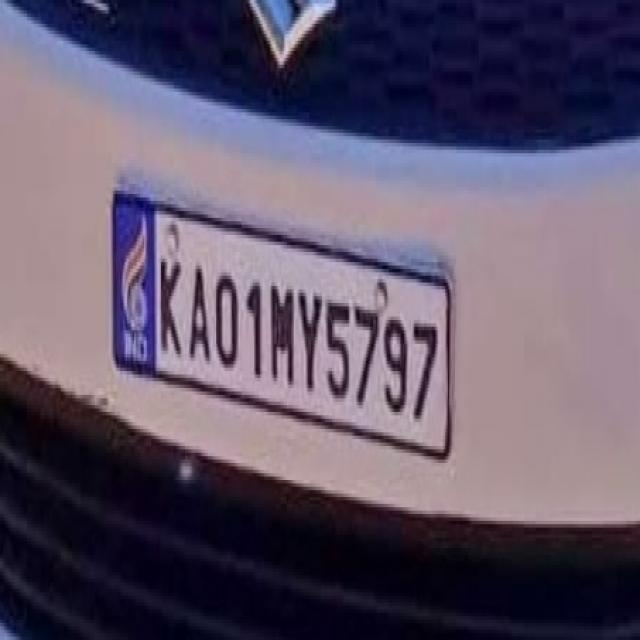0: (212, 252, 242, 372)
1: (243, 270, 267, 398)
5: (324, 276, 352, 408)
7: (412, 315, 441, 438), (352, 297, 378, 428)
9: (382, 302, 410, 427)
A: (185, 249, 213, 374)
K: (156, 238, 184, 368)
M: (268, 277, 300, 395)
Y: (296, 273, 324, 397)
